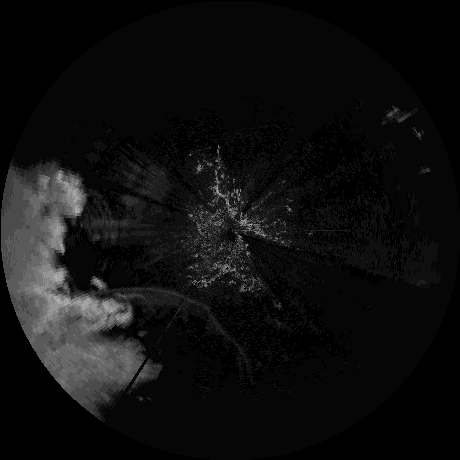frontgust: (95, 284, 251, 360), (119, 292, 148, 308)
